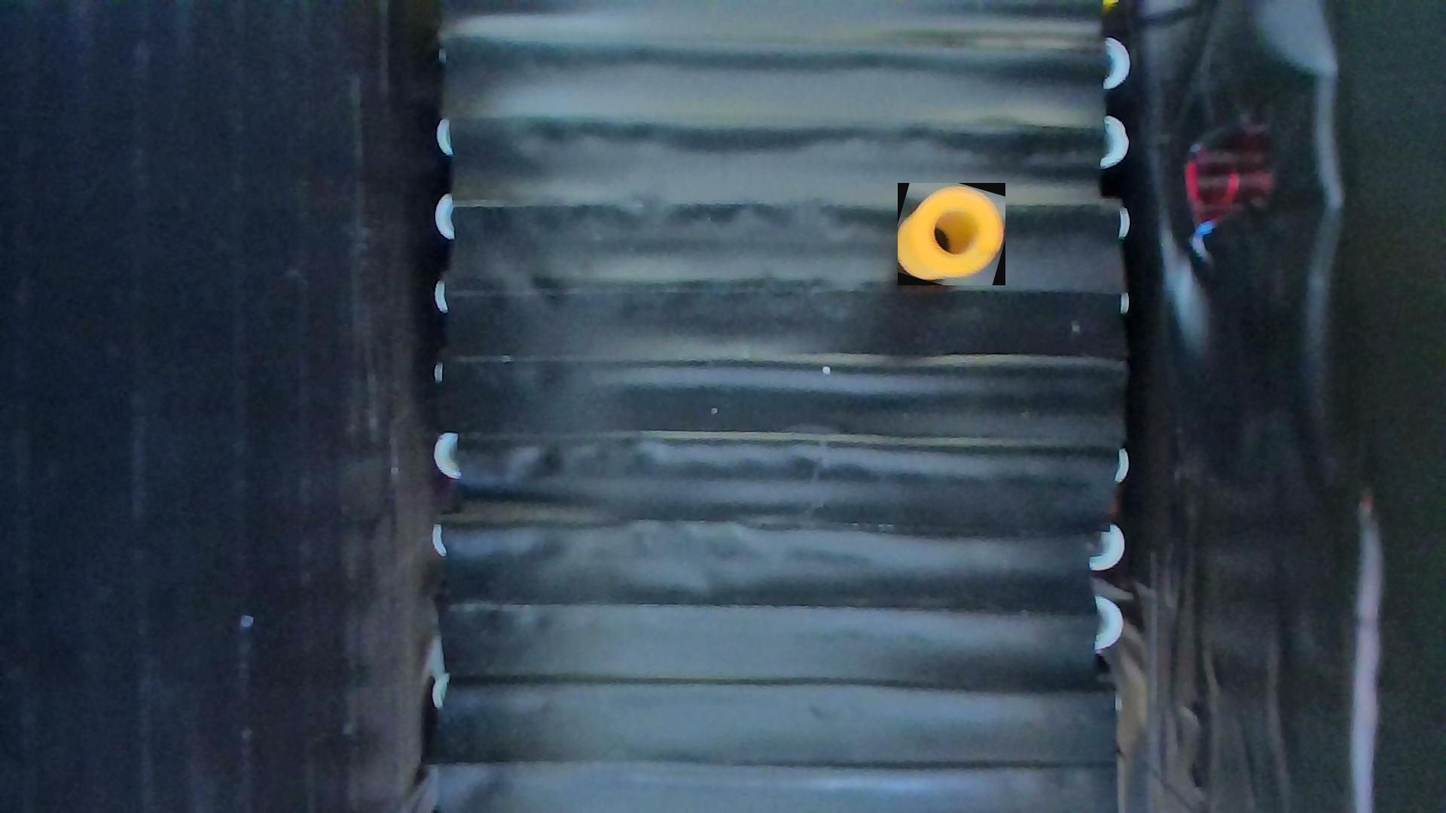spring: (898, 183, 1005, 285)
